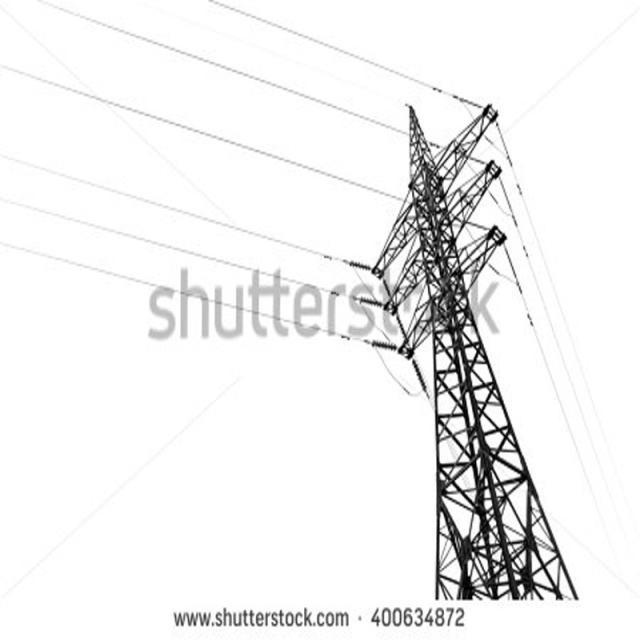non-critical vegetation: (370, 90, 574, 602)
